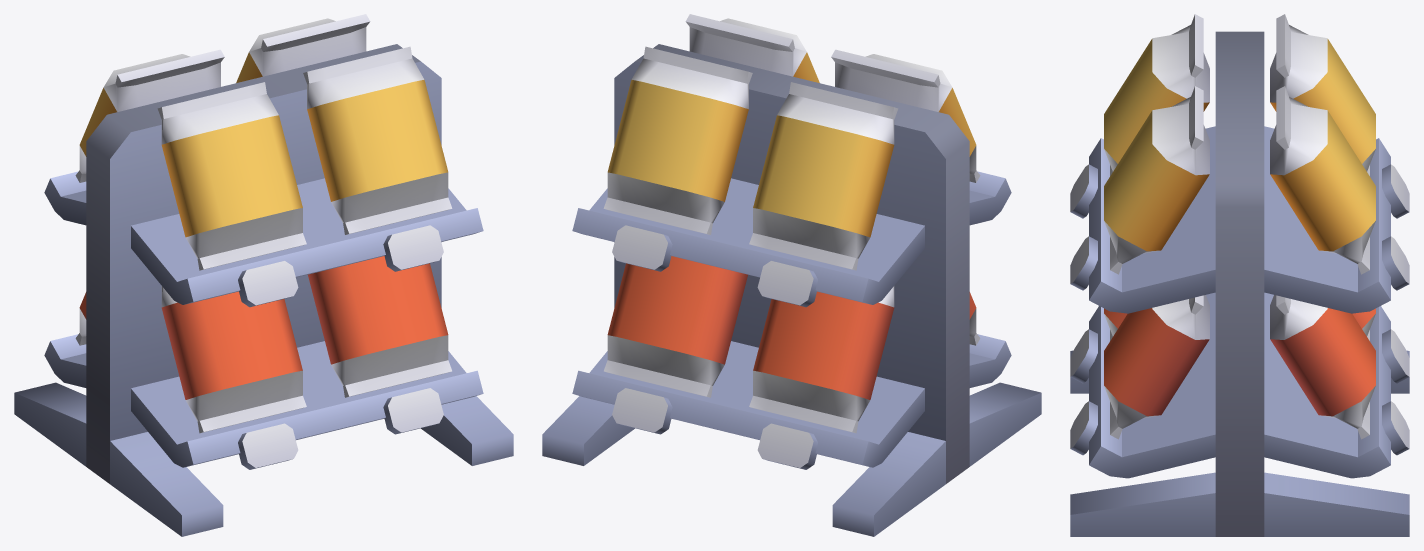
Rendered from shelf-bags.glb.
The picture shows the model from 3 angles, left to right: view 1: azimuth 30°, elevation 25°; view 2: azimuth 150°, elevation 25°; view 3: azimuth 270°, elevation 25°; orthographic projection.
Visible parts, largest first — view 1: shelf-bags, bag (×6); view 2: shelf-bags, bag (×6); view 3: shelf-bags, bag (×6).
Part boxes in pixels (bbox=[...]): shelf-bags: bbox=[14, 44, 513, 536]; bag (×6): bbox=[75, 14, 452, 433]; shelf-bags: bbox=[542, 44, 1041, 536]; bag (×6): bbox=[603, 14, 980, 433]; shelf-bags: bbox=[1070, 31, 1409, 536]; bag (×6): bbox=[1104, 14, 1375, 439].
Size of the model in its own units: 0.8 by 0.8634 by 0.7.
Materials: 1 (1 with a texture image).
